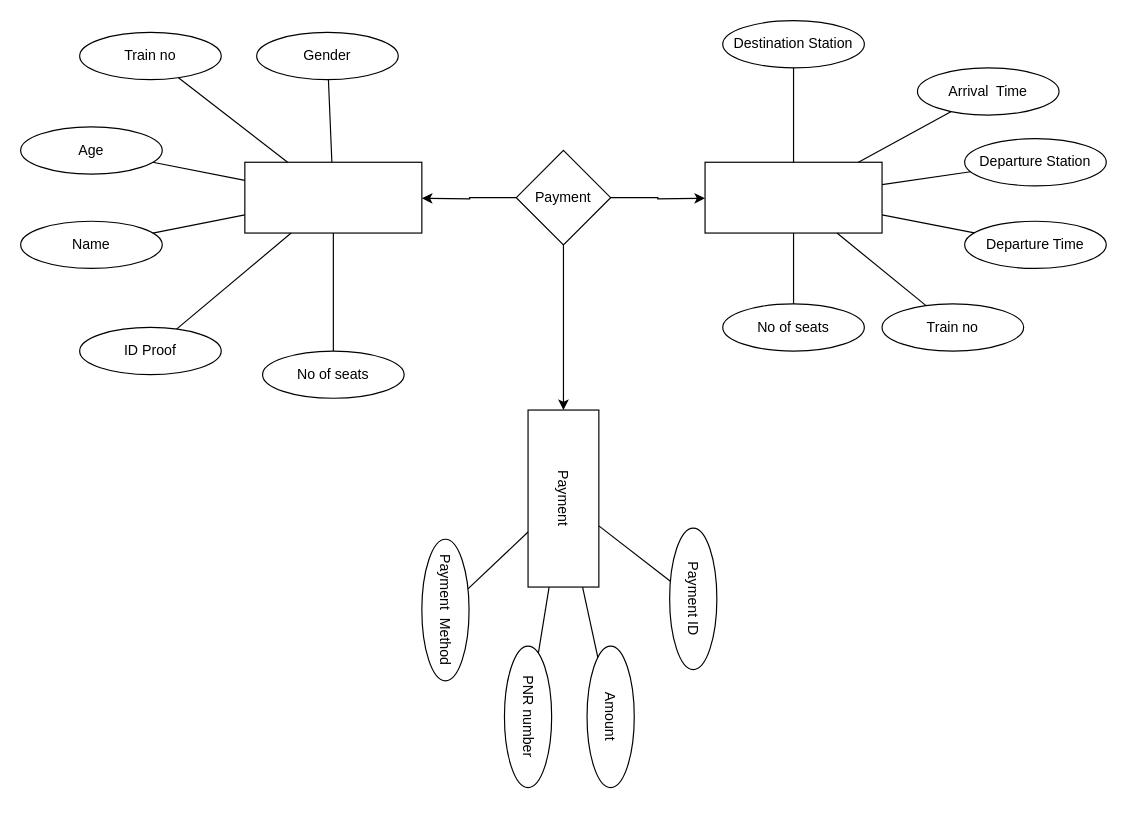
The diagram is 1127 pixels wide and 831 high, and some of its shapes have lost their labels. Here are the shapes that lost their labels. From the top down, the centre of each, then its label:
At (333,197): "Passenger".
At (793,197): "Train".
